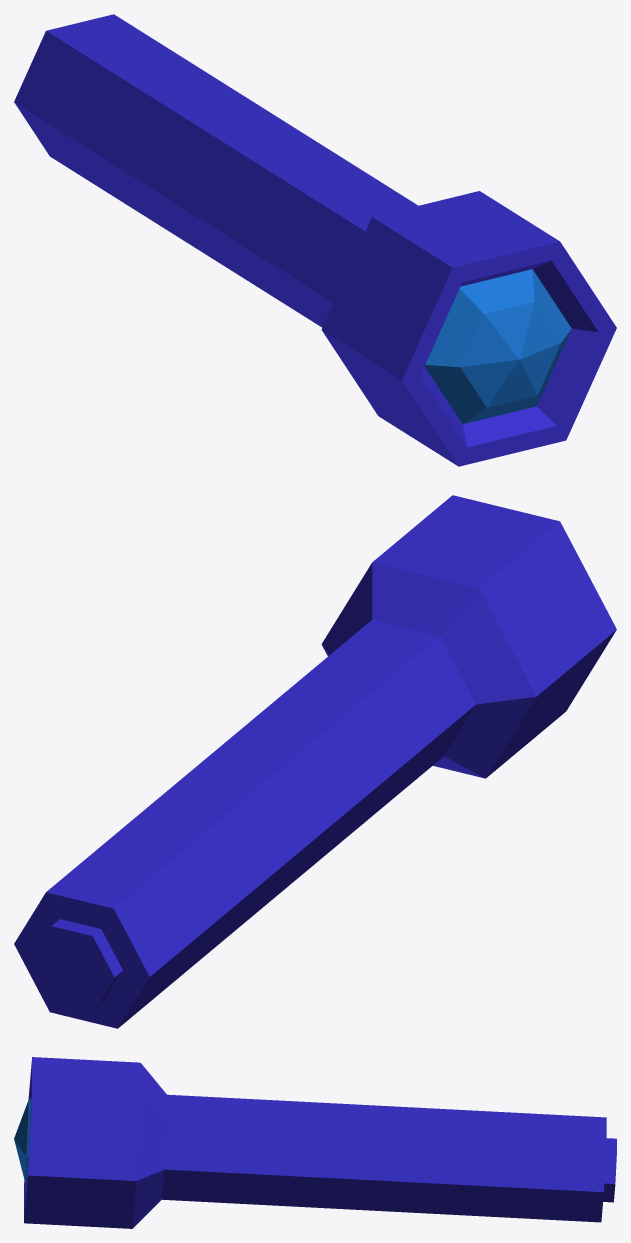
File: SM_flashlight.fbx
The picture shows the model from 3 angles, top to bottom: view 1: azimuth 30°, elevation 25°; view 2: azimuth 150°, elevation 25°; view 3: azimuth 270°, elevation 25°; orthographic projection. The views are drawn at different scales.
Parts seen in each view (by area): view 1: flashlight; view 2: flashlight; view 3: flashlight.
Part boxes in pixels (x1,y1,x2,y2): flashlight: [14, 14, 616, 466]; flashlight: [14, 495, 616, 1028]; flashlight: [14, 1057, 616, 1228].
Size of the model in its own units: 7.44 by 6.71 by 26.83.
